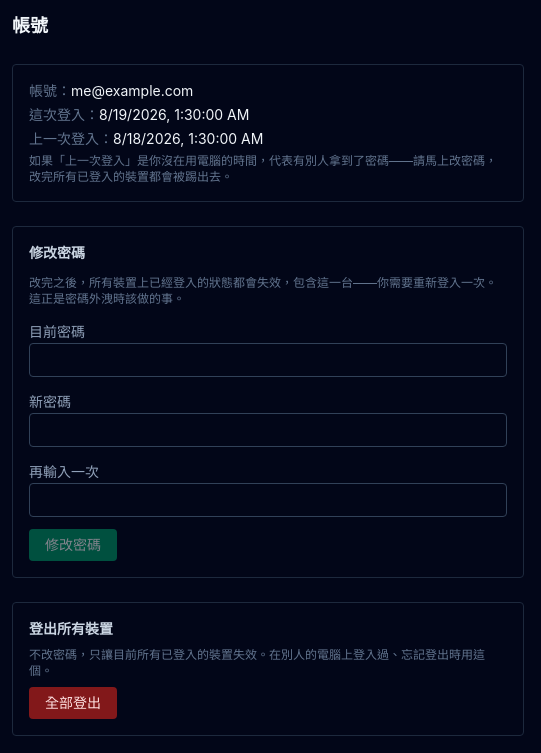
Test case: AccountPage › says the wrong current password was rejected
Type "wrong" into the password field labelled "目前密碼". click: (268, 360)
box: [29,343,507,377]
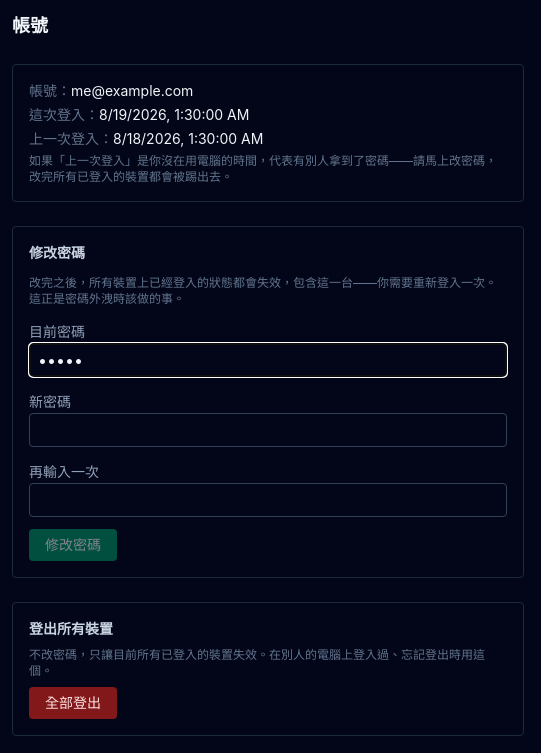
Type "a-new-password" into the password field labelled "新密碼". click: (268, 430)
box: [29,413,507,447]
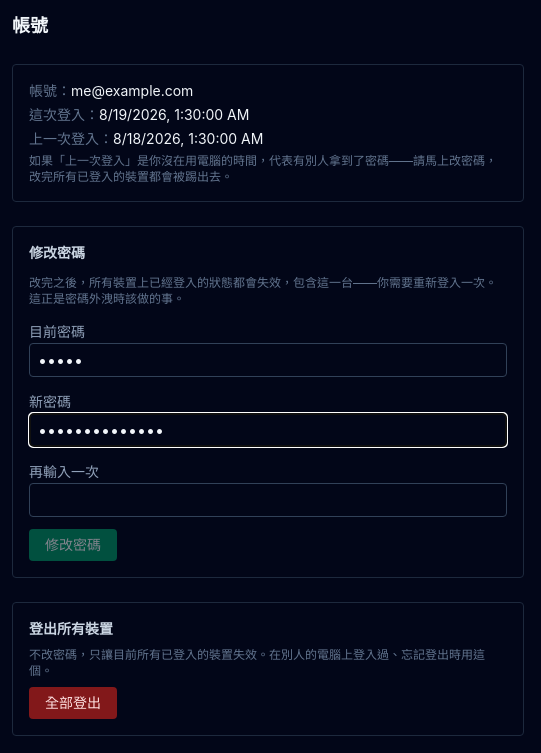
Type "a-new-password" into the password field labelled "再輸入一次". click: (268, 500)
box: [29,483,507,517]
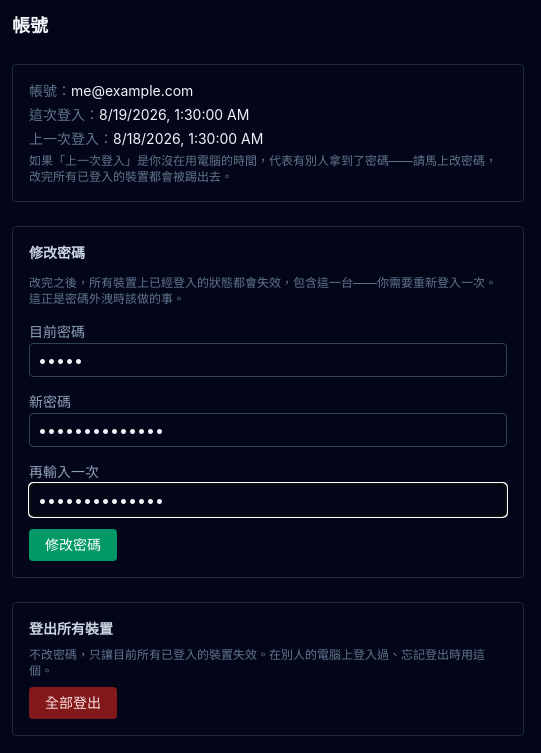
Click the button "修改密碼". click: (73, 545)
box: [29,529,117,561]
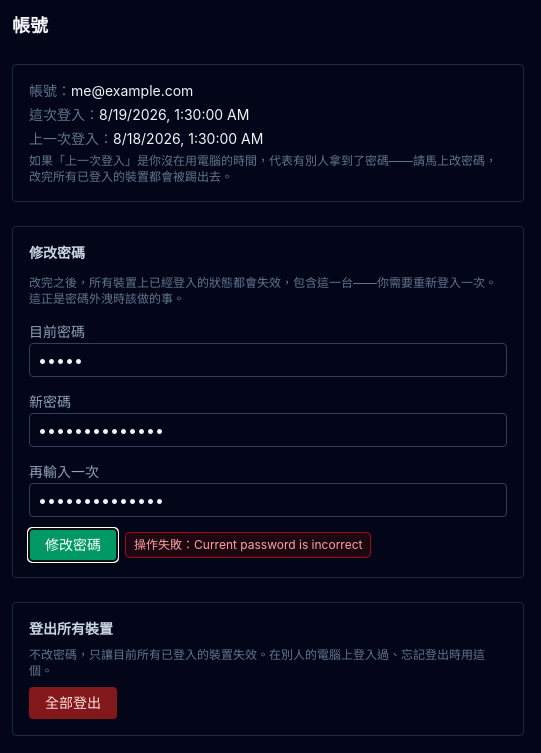
Expected: the message shows "Current password is incorrect", [194,537,362,552]
